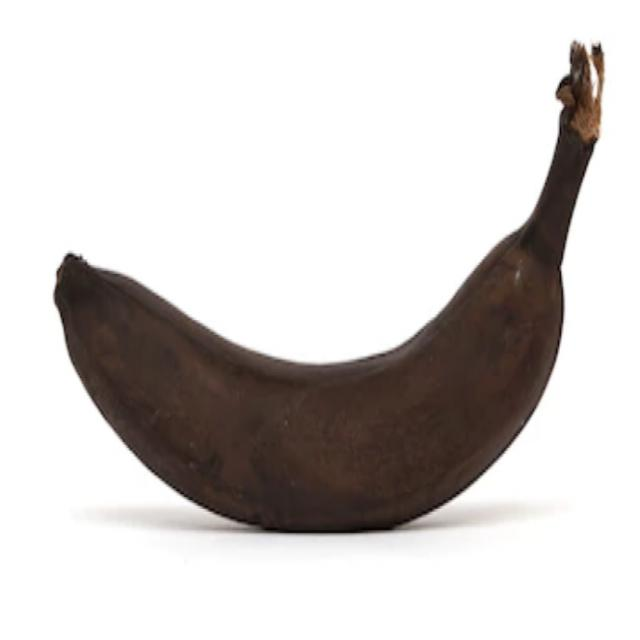rotten-banana: (51, 162, 587, 534)
